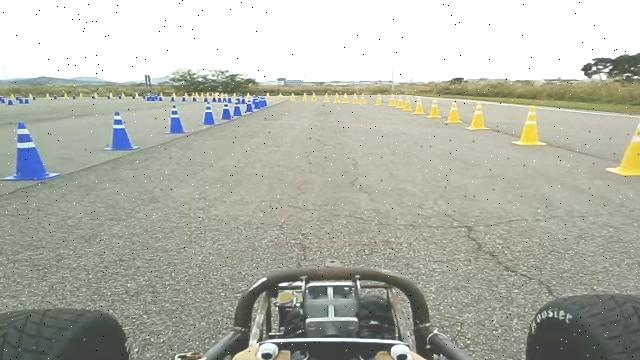blue cone: (0, 121, 60, 181), (103, 110, 140, 151), (164, 104, 189, 134), (199, 102, 217, 125), (202, 110, 216, 125), (220, 106, 232, 120), (232, 105, 243, 117), (257, 96, 268, 108), (244, 101, 253, 113)
yellow cone: (605, 115, 640, 176), (511, 106, 547, 145), (466, 102, 490, 130), (444, 100, 463, 124), (426, 99, 442, 118), (412, 98, 426, 114), (401, 99, 413, 111), (373, 93, 382, 106), (395, 96, 404, 108), (387, 95, 396, 107), (351, 93, 360, 104), (341, 92, 349, 103), (332, 92, 340, 103), (360, 94, 368, 105)
